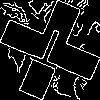T: (25, 25, 71, 79)
